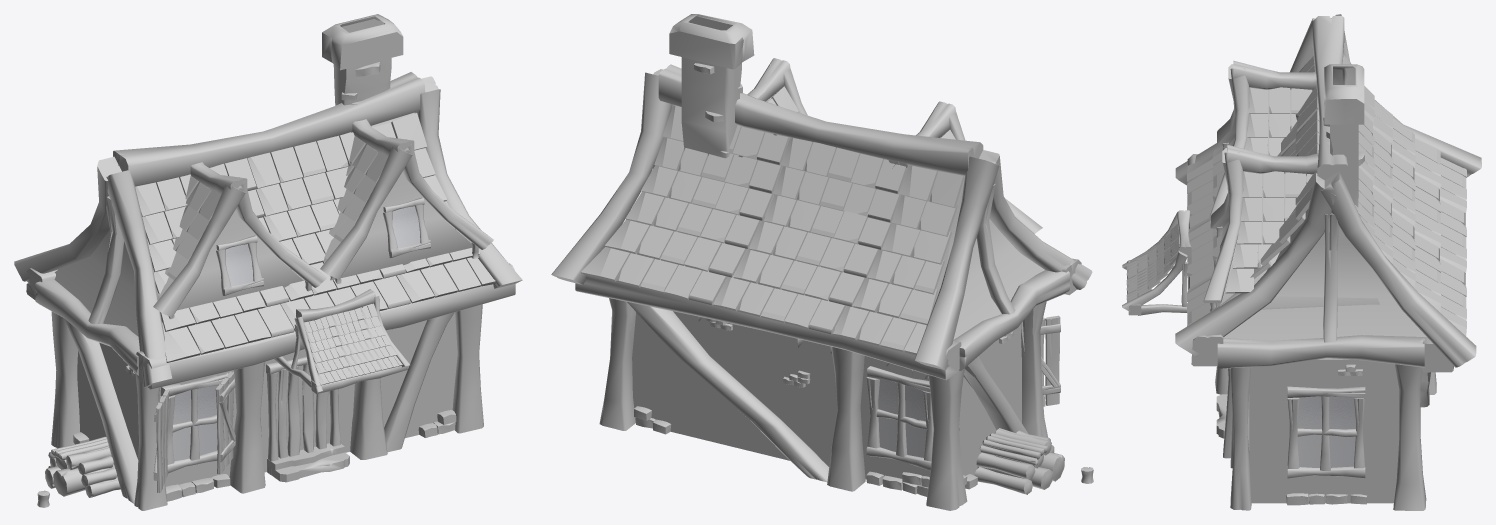
The model's file is CasaDos.fbx.
3 views of the same model, side by side, from view 1: azimuth 30°, elevation 25°; view 2: azimuth 150°, elevation 25°; view 3: azimuth 270°, elevation 25° (orthographic). The views are drawn at different scales.
Visible parts, largest first — view 1: Object076; view 2: Object076; view 3: Object076.
Boxes of the visible parts, x1,y1,x2,y2 form: Object076: (14, 14, 522, 510); Object076: (551, 14, 1093, 510); Object076: (1122, 14, 1481, 510).
Size of the model in its own units: 3.96 by 3.28 by 2.67.
